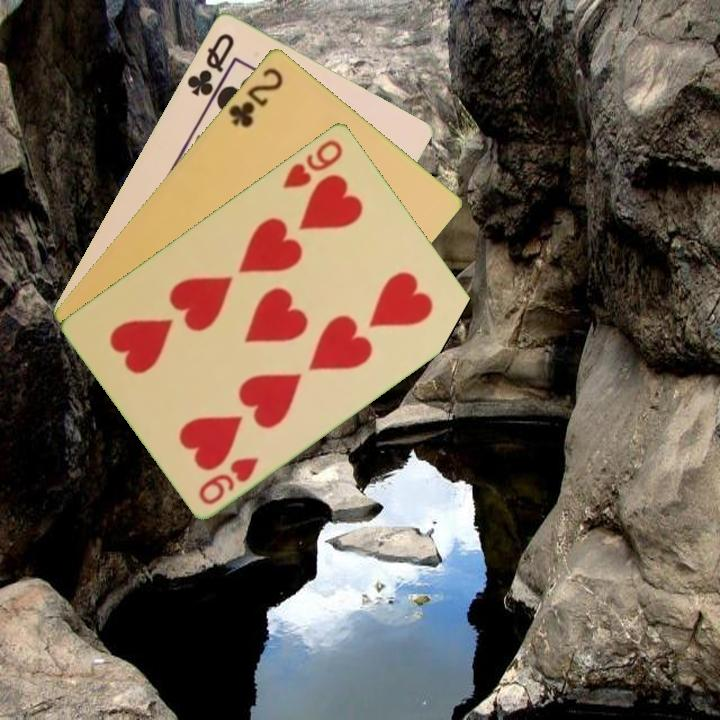2c: (224, 63, 286, 131)
9h: (279, 135, 346, 191), (195, 453, 262, 508)
Qc: (183, 29, 238, 99)
